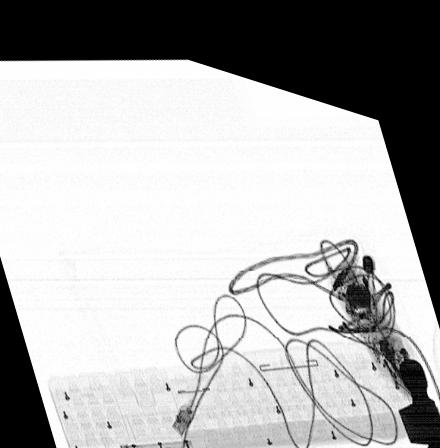Hammer: (176, 330, 440, 448)
